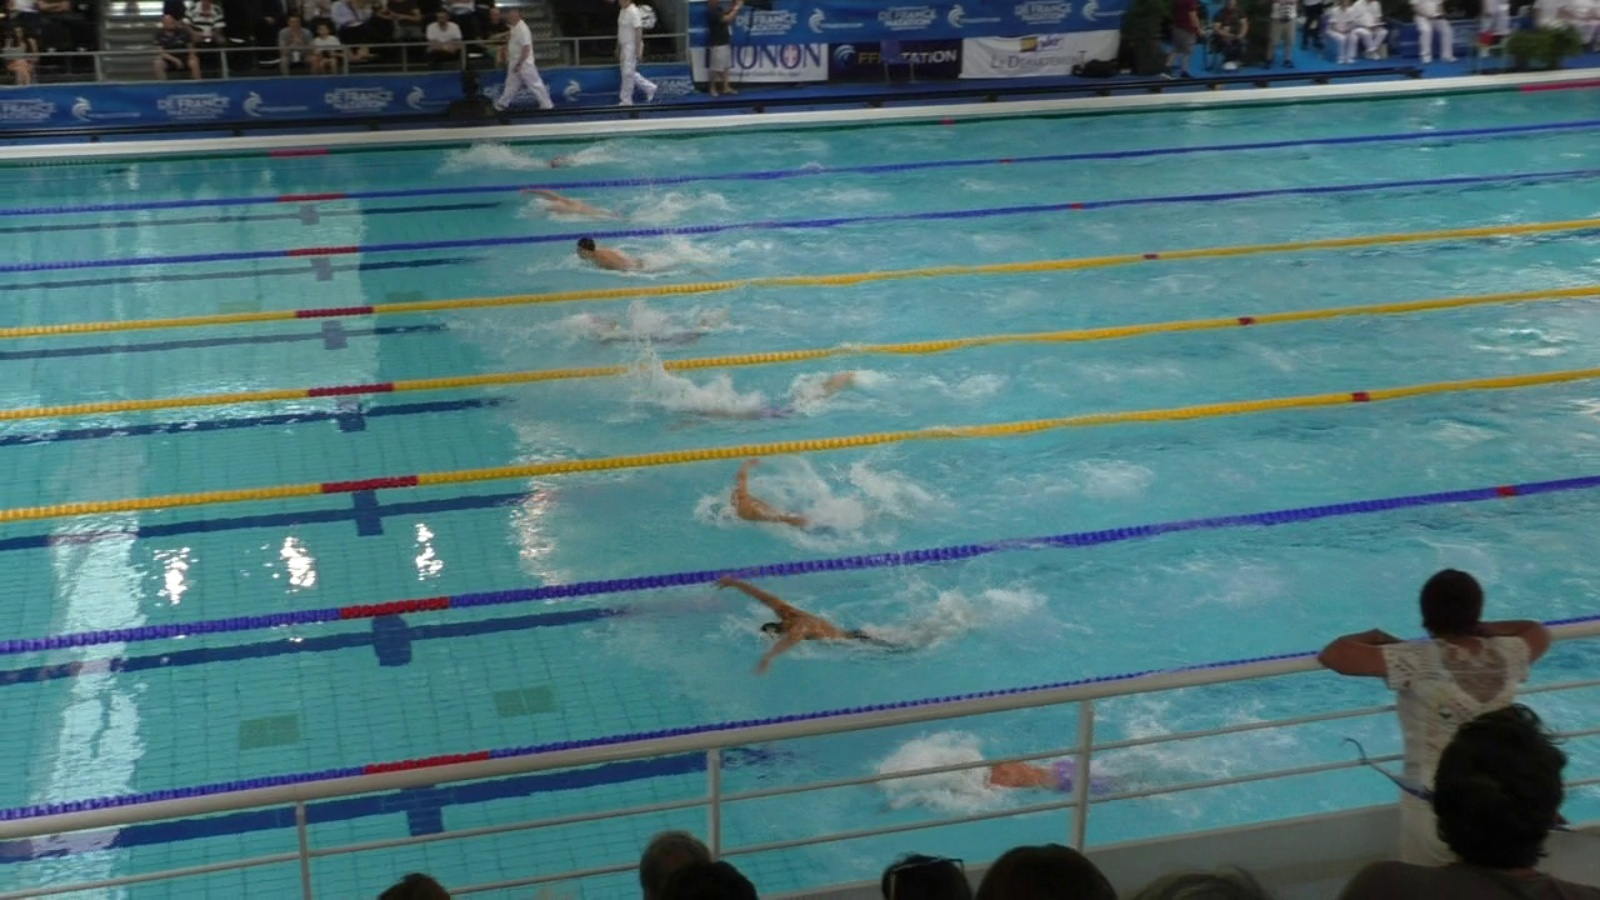swimmerw: (715, 580, 984, 669), (902, 752, 1146, 800), (658, 373, 865, 423), (727, 455, 855, 527), (584, 307, 726, 357), (573, 232, 705, 275), (525, 184, 643, 219), (505, 147, 597, 169)
